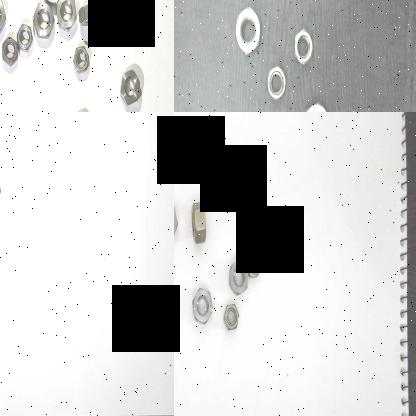NUTS: (230, 0, 265, 61), (187, 196, 208, 250), (116, 66, 142, 109), (264, 62, 289, 104), (210, 148, 235, 188), (245, 176, 266, 220), (191, 286, 213, 328), (291, 26, 313, 67), (226, 258, 249, 297), (32, 0, 53, 42), (14, 21, 34, 55), (0, 31, 17, 70), (55, 0, 76, 31), (220, 302, 240, 334), (245, 245, 263, 280), (76, 2, 102, 26), (69, 43, 90, 72), (174, 116, 189, 155), (178, 142, 196, 172), (216, 179, 236, 204), (301, 96, 329, 112), (111, 0, 129, 20), (0, 0, 10, 34), (123, 0, 143, 7)
